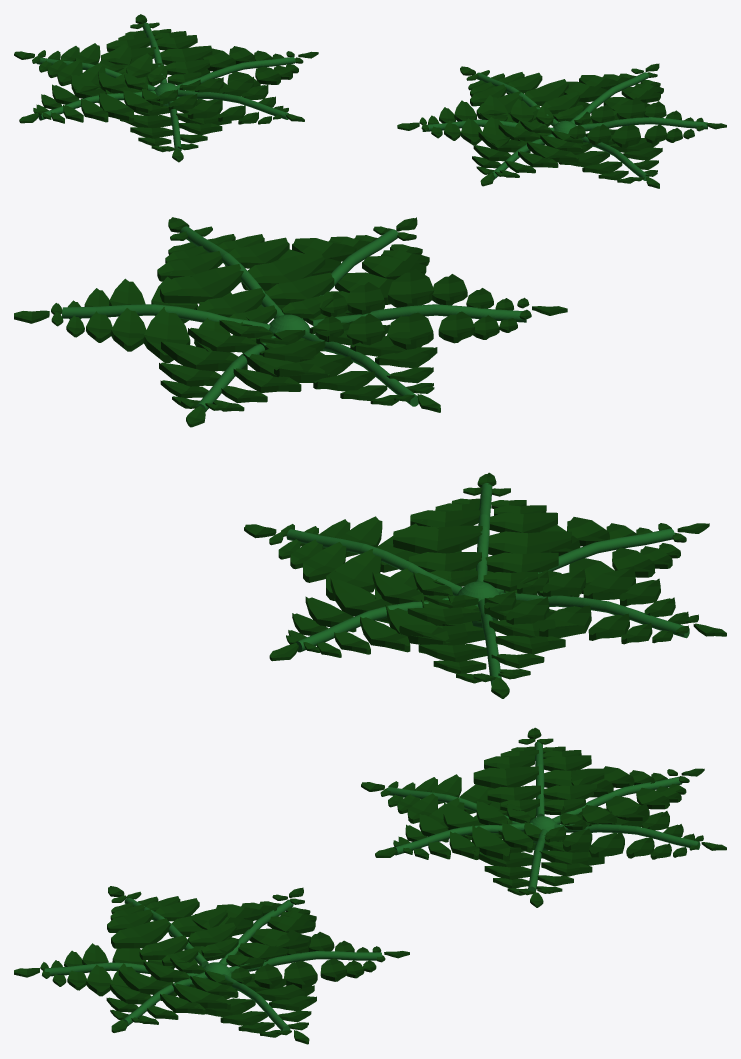
File: Ferns Sparse.fbx
The picture shows the model from 3 angles, top to bottom: view 1: azimuth 30°, elevation 25°; view 2: azimuth 150°, elevation 25°; view 3: azimuth 270°, elevation 25°; orthographic projection. The views are drawn at different scales.
Visible parts, largest first — view 1: VineLeaf.035; view 2: VineLeaf.035; view 3: VineLeaf.035.
Boxes of the visible parts, x1,y1,x2,y2 form: VineLeaf.035: (14,14,726,188); VineLeaf.035: (14,217,726,698); VineLeaf.035: (14,727,726,1044).
Size of the model in its own units: 711 by 48.38 by 694.
